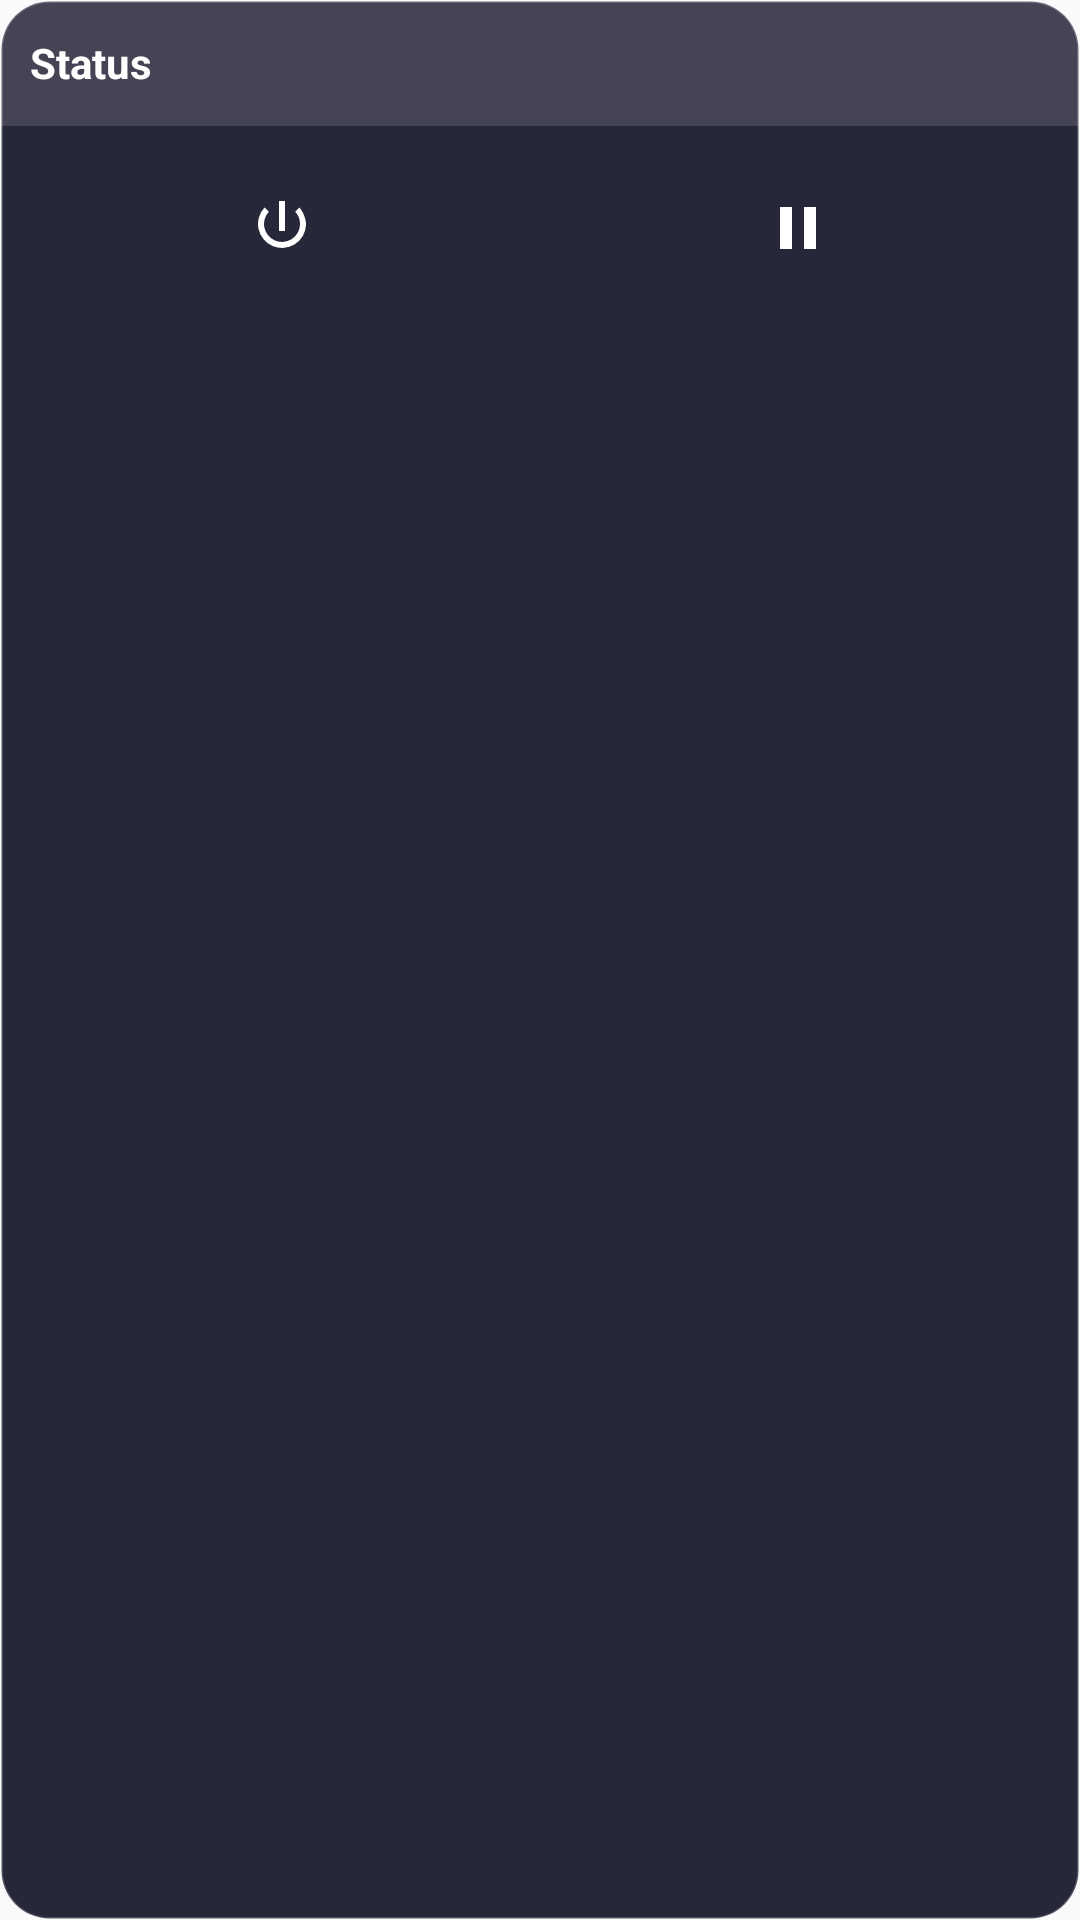

Icon bounding boxes for this 1080px×1920px phone screenshot, format (x1, y1, x2, y2):
Ativar análise: (258, 201, 306, 248)
Pausar análise: (780, 207, 816, 249)
